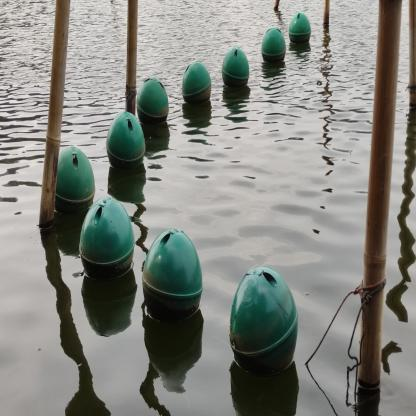green_buoy: (228, 264, 300, 377), (142, 227, 204, 325), (78, 195, 136, 286), (54, 146, 96, 216), (106, 110, 147, 171), (136, 78, 169, 130), (181, 62, 213, 108), (221, 47, 250, 94), (260, 26, 287, 66), (288, 12, 312, 46)
